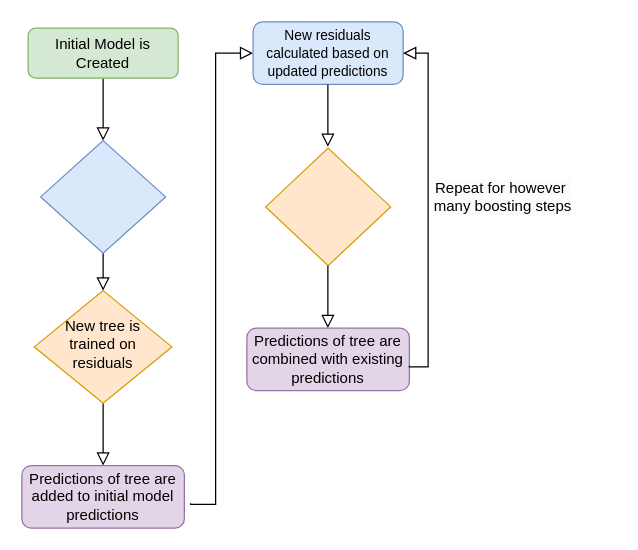
This 638x550 diagram has some shape labels left out. Here are the shapes that lost their labels. From the top down, the box of each, then its label:
(39, 139, 166, 253): Residuals Calculated
(264, 147, 391, 266): New tree is trained on new residuals
